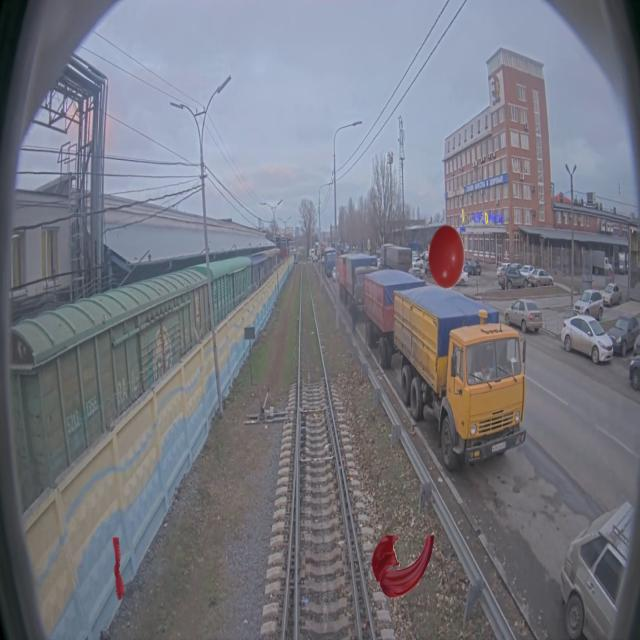balloon: (428, 225, 465, 289)
floating object: (372, 534, 435, 598), (112, 536, 125, 600)
